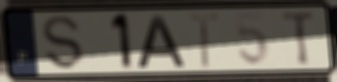1: (109, 11, 135, 73)
5: (233, 11, 274, 69)
A: (134, 13, 187, 70)
S: (40, 14, 86, 72)
T: (185, 10, 222, 71), (280, 9, 318, 68)
